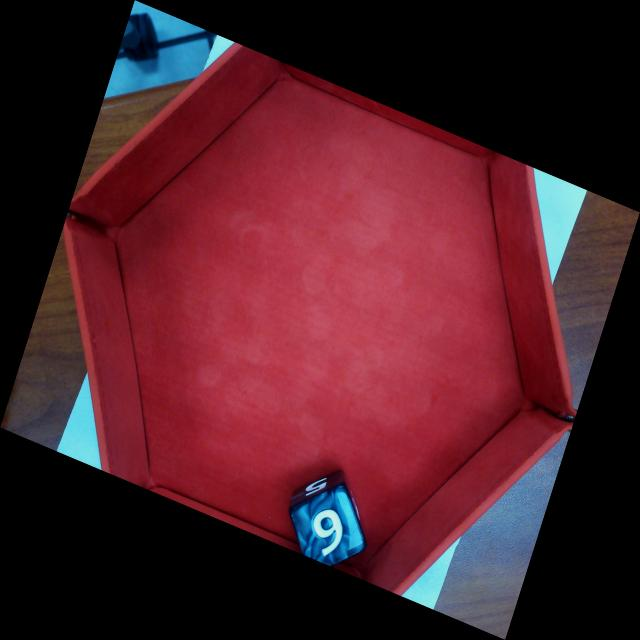dice: (288, 482, 367, 567)
